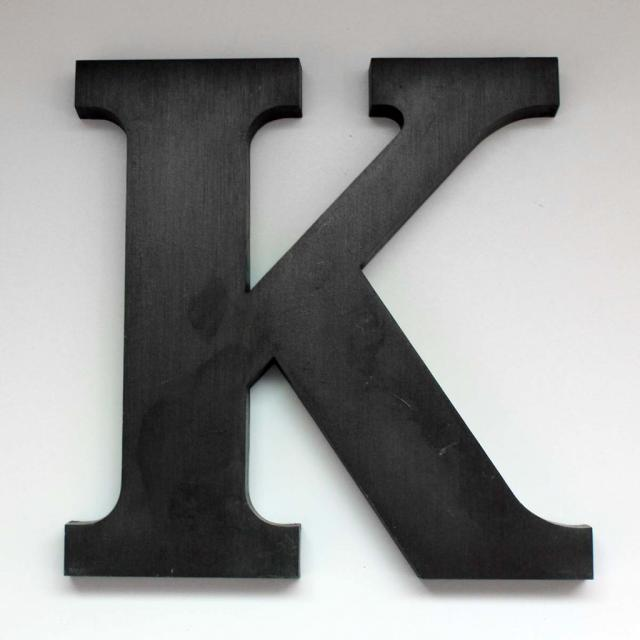K: (52, 21, 604, 614)
